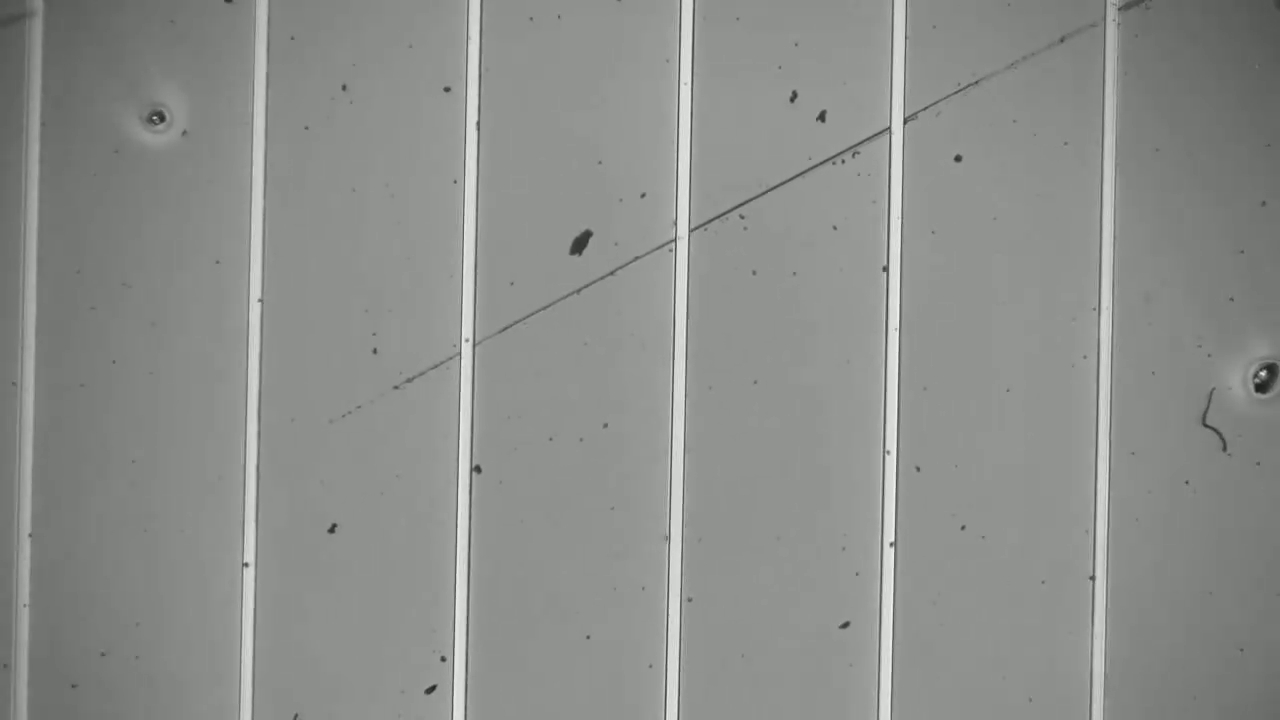scratch: (346, 1, 1148, 414)
